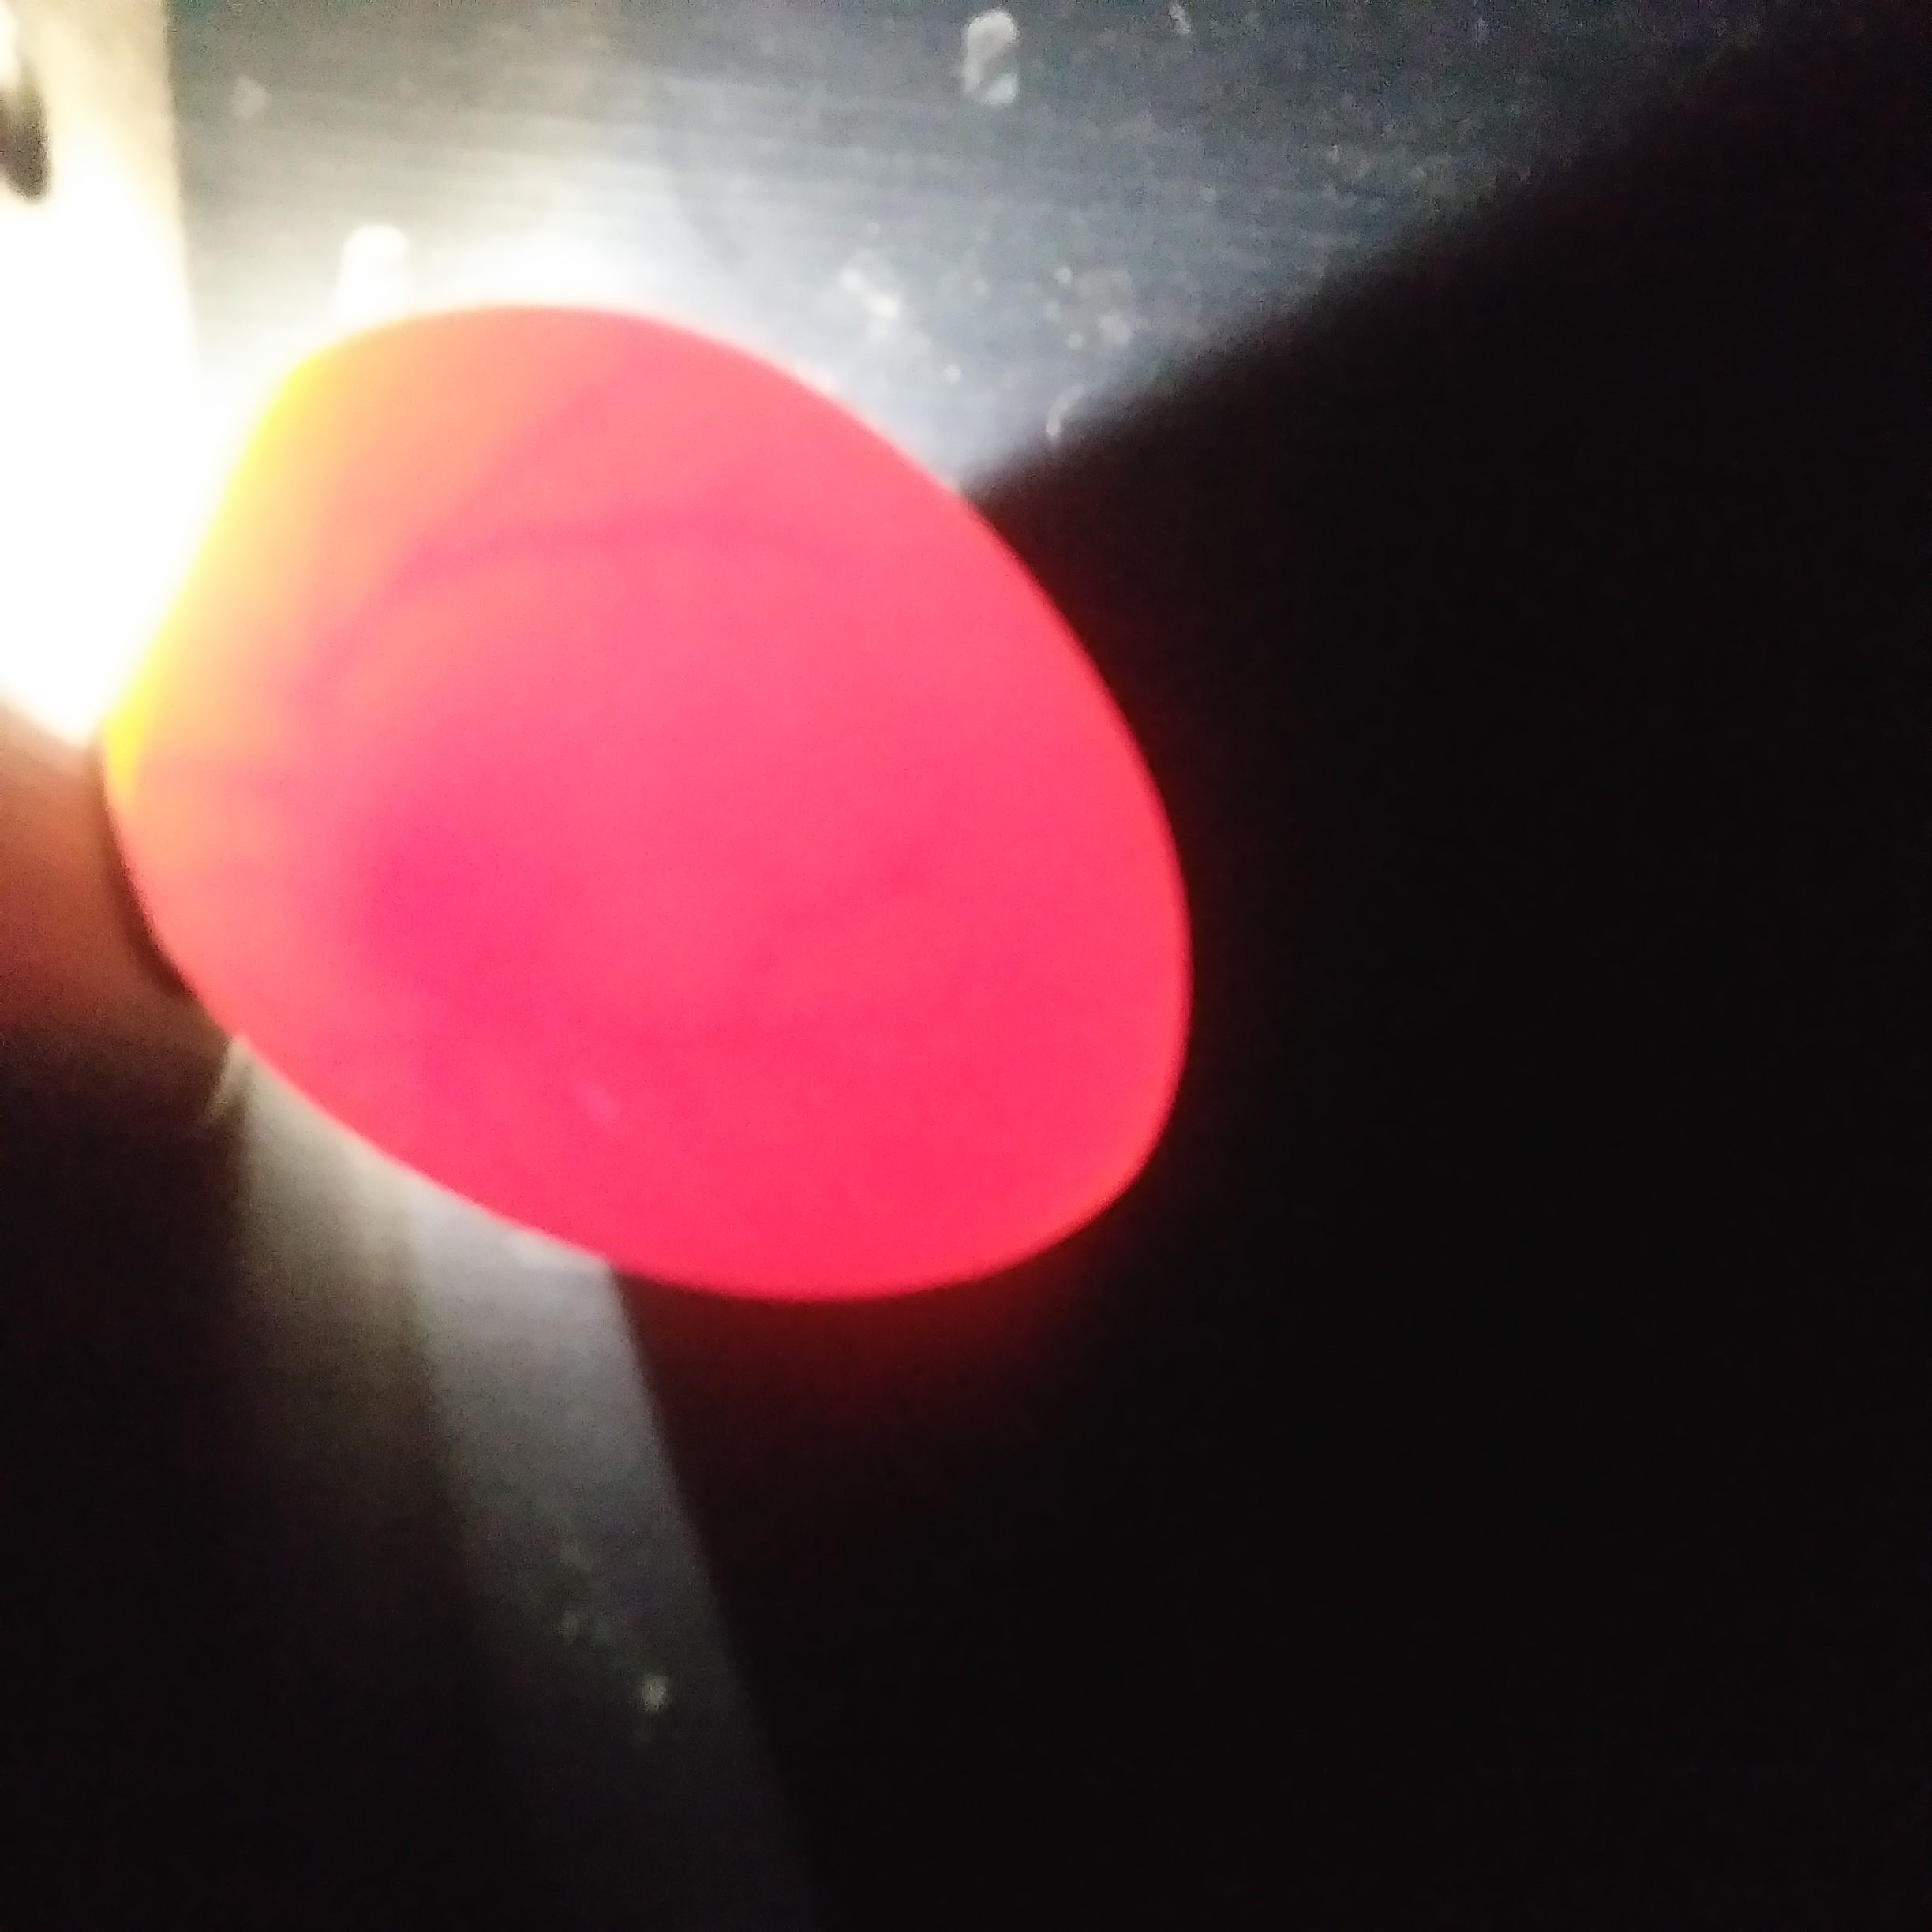bloodcell: (336, 426, 789, 665), (191, 690, 333, 879)
